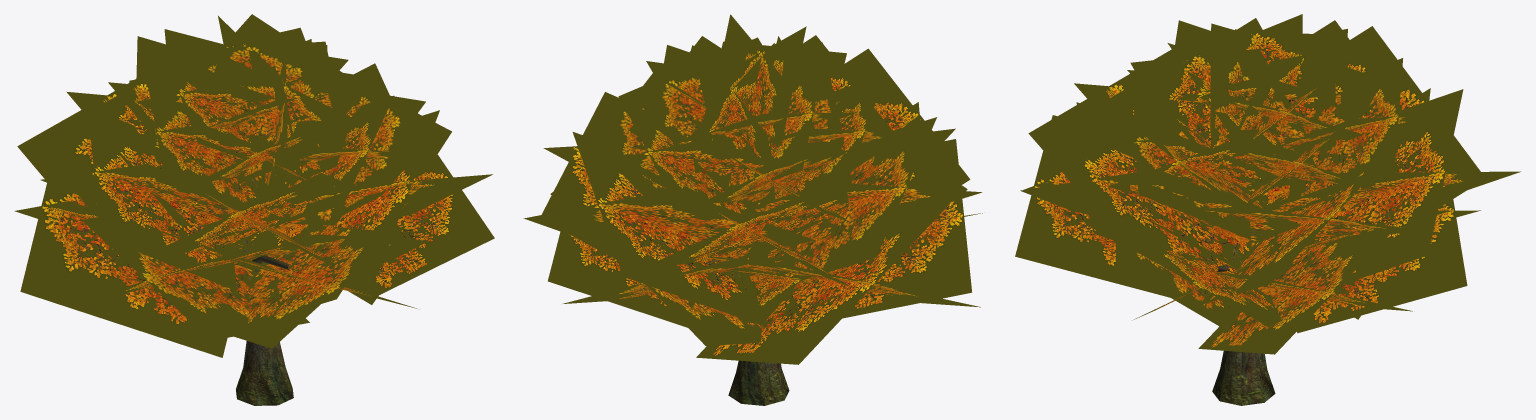
Rendered from tre_tree03.glb.
The picture shows the model from 3 angles, left to right: view 1: azimuth 30°, elevation 25°; view 2: azimuth 150°, elevation 25°; view 3: azimuth 270°, elevation 25°; orthographic projection. The views are drawn at different scales.
Parts seen in each view (by area): view 1: tre_tree03; view 2: tre_tree03; view 3: tre_tree03.
Part boxes in pixels (x1=…): tre_tree03: x1=14, y1=14, x2=494, y2=405; tre_tree03: x1=523, y1=14, x2=982, y2=405; tre_tree03: x1=1015, y1=14, x2=1520, y2=405.
Size of the model in its own units: 99.49 by 77.43 by 97.81.
3 materials, 3 textured.
